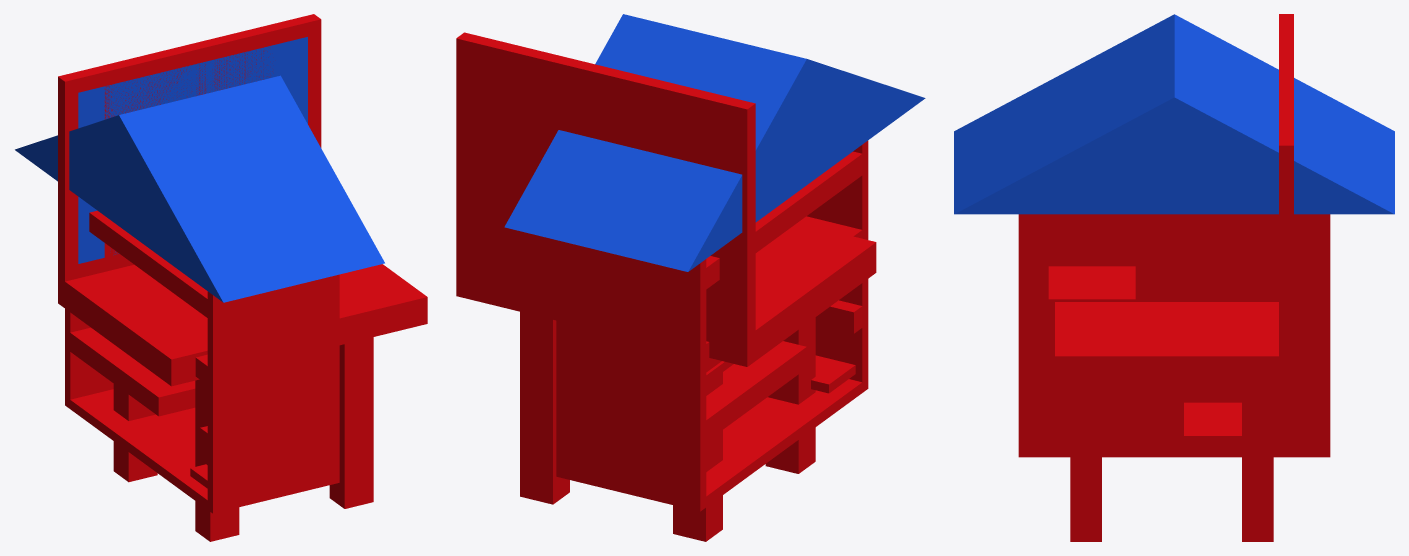
The model's file is items.fbx.
3 renders of one model, left to right at view 1: azimuth 30°, elevation 25°; view 2: azimuth 150°, elevation 25°; view 3: azimuth 270°, elevation 25°, orthographic. The views are drawn at different scales.
Parts seen in each view (by area): view 1: DollHouse, Laptop, Chair; view 2: DollHouse, Laptop, Chair; view 3: DollHouse, Chair, Laptop.
Part boxes in pixels (<box>): DollHouse: <box>15,75,384,513</box>; Laptop: <box>58,14,427,386</box>; Chair: <box>98,24,378,541</box>; DollHouse: <box>504,14,925,511</box>; Laptop: <box>456,32,876,366</box>; Chair: <box>502,44,831,541</box>; DollHouse: <box>954,14,1394,457</box>; Chair: <box>1055,34,1293,541</box>; Laptop: <box>1055,14,1293,384</box>.
Size of the model in its own units: 200 by 299 by 283.
